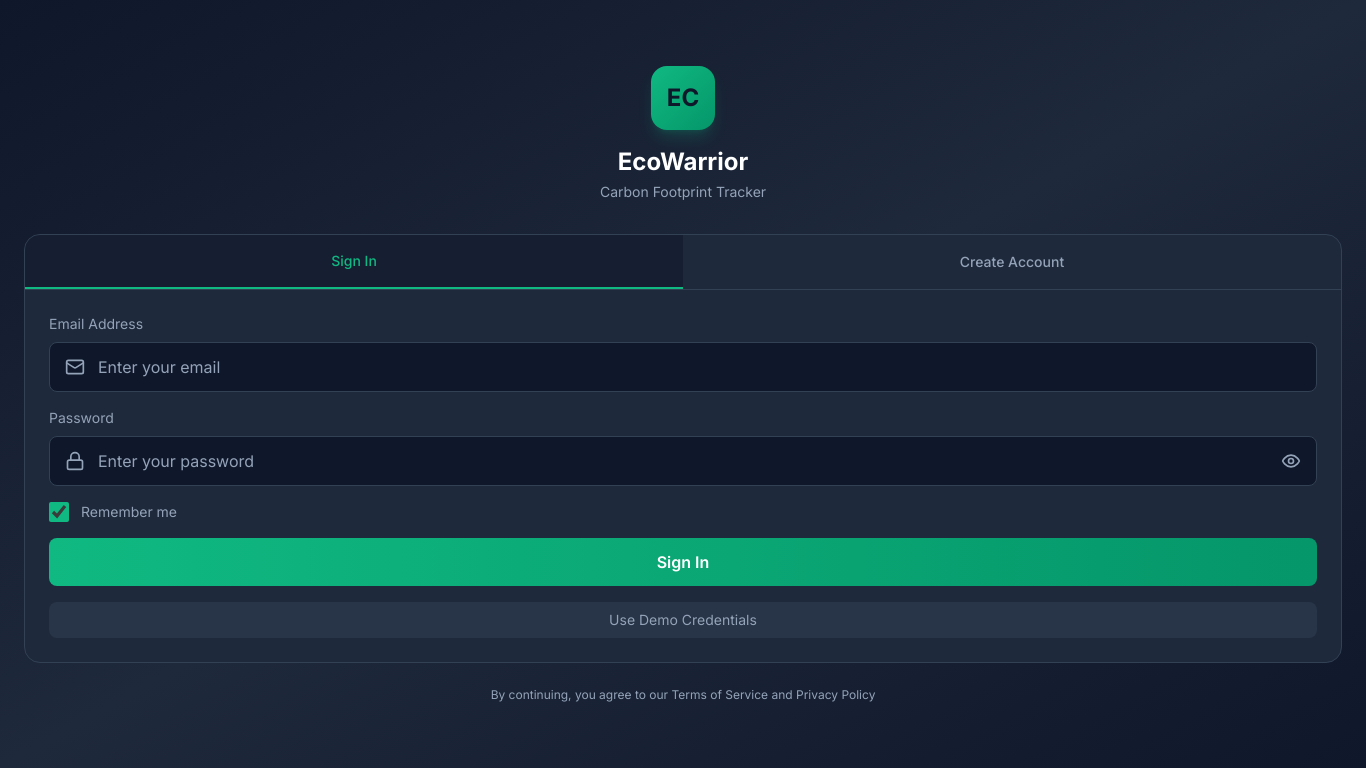
Test case: AuthPortal – Demo Credentials › fills demo credentials when button is clicked
Step 1. Click the button "Use Demo Credentials" → (683, 620), box [49,602,1317,638]
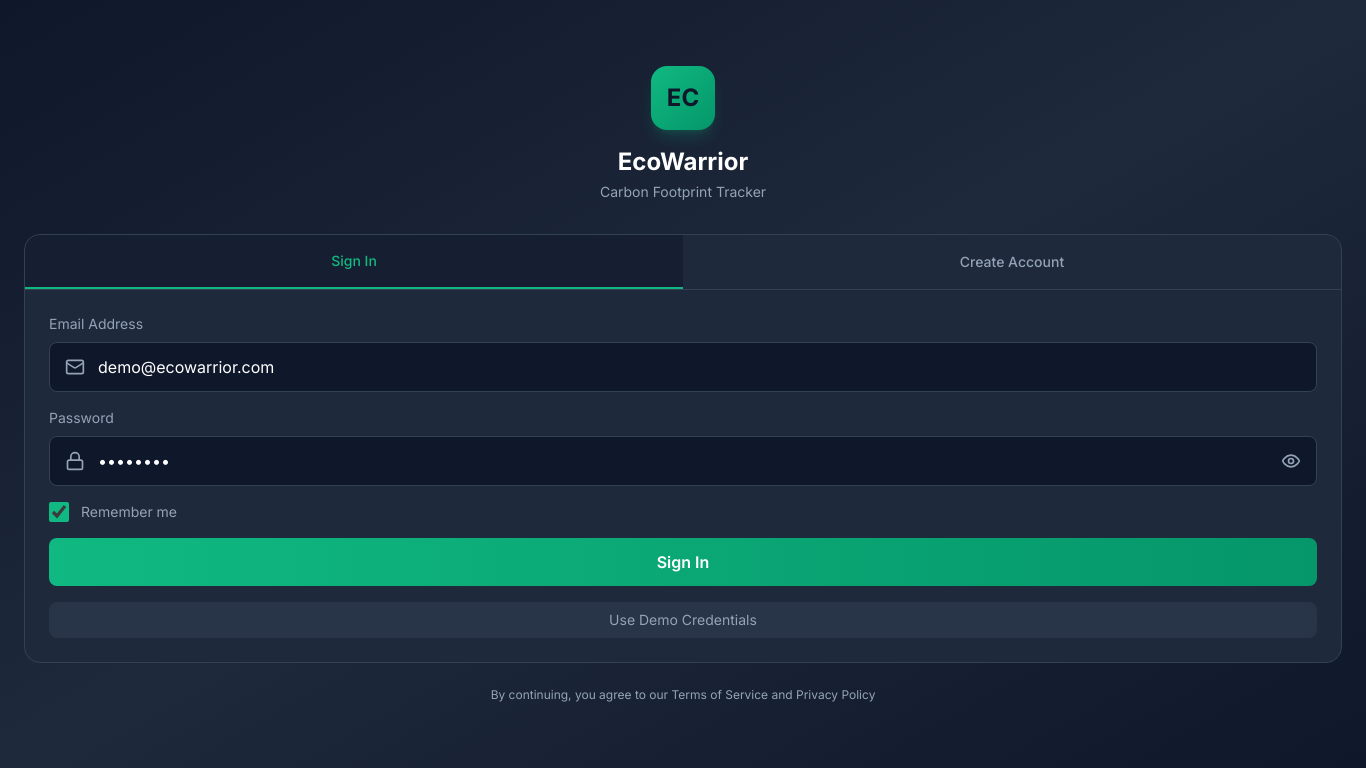
Now the field labelled "Email Address" holds "demo@ecowarrior.com", box [49,342,1317,392]
